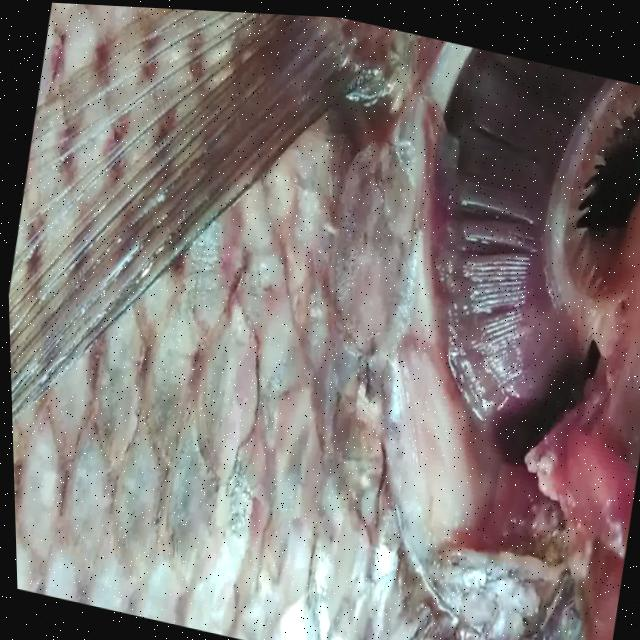Non-Fresh: (360, 30, 640, 491)
